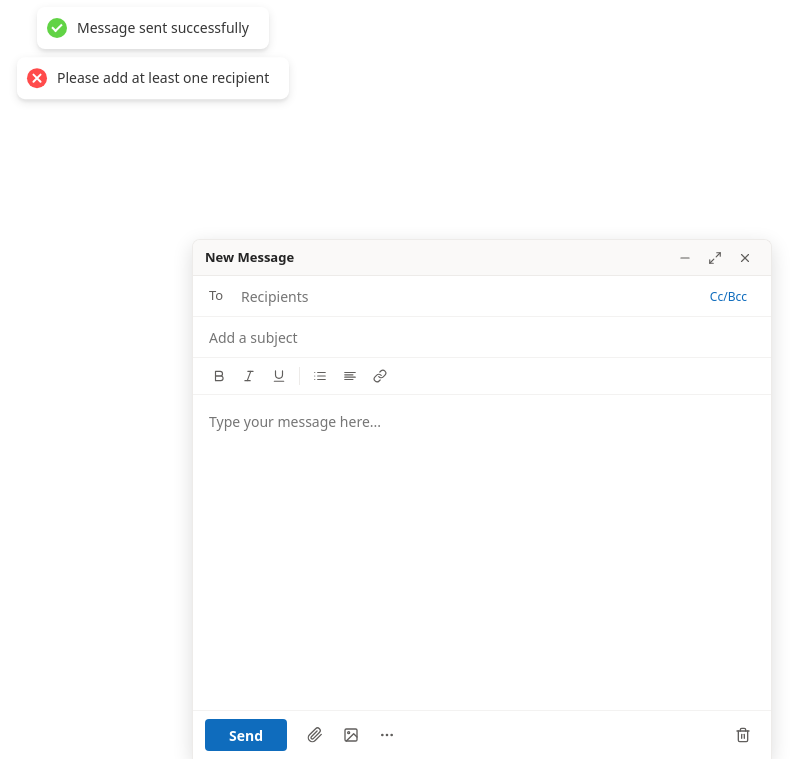
Compose Component › minimizes the compose window
The width and height of the screenshot is (794, 759).
Click the button titled "Minimize". click: click(685, 258)
box: [671, 244, 699, 272]
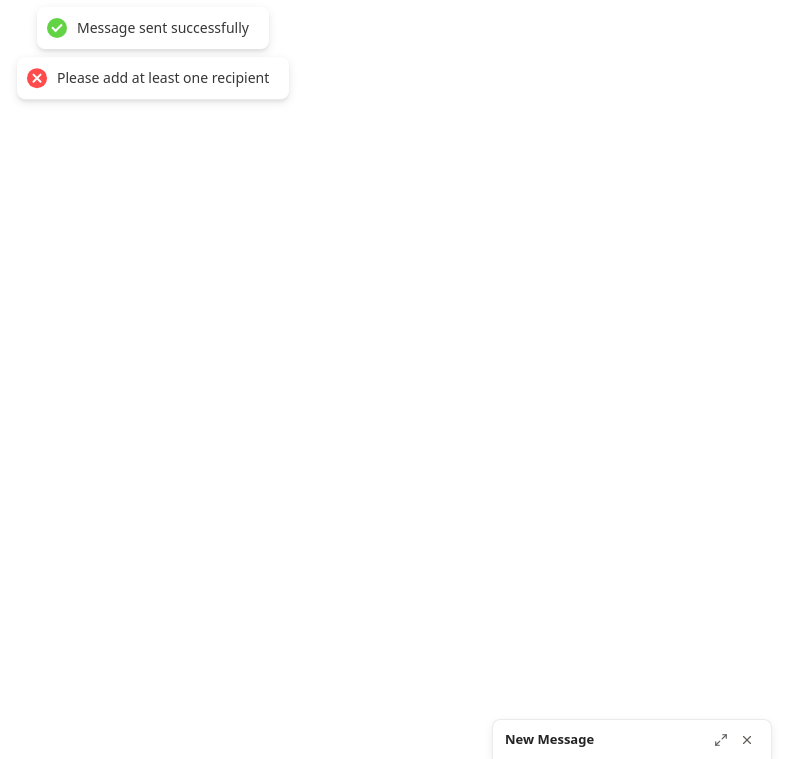
Expected: the text "New Message" is shown, [505, 730, 594, 749]
Expected: the field with placeholder "Recipients" is gone
